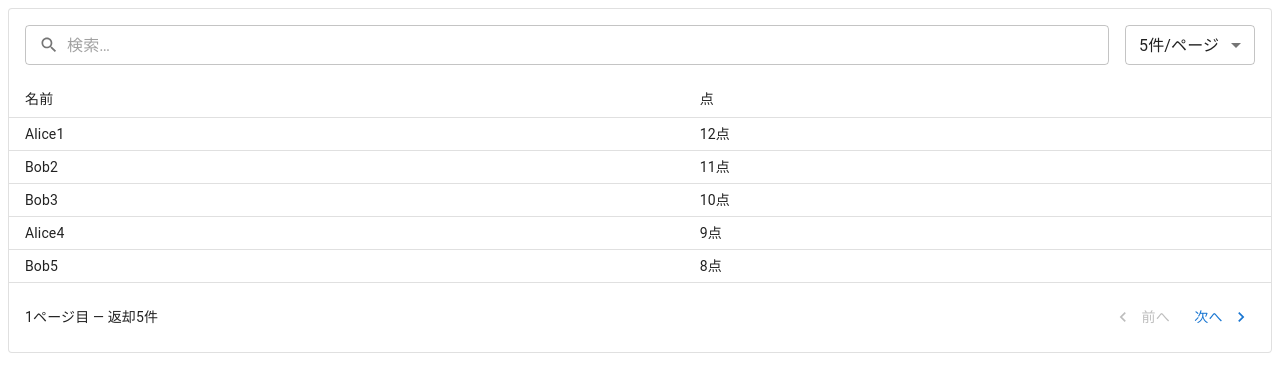
CursorTable (MUI) › 次へ・前へでページを移動する
Expected: the text "Alice1" is shown, [9,118,684,150]
What coordinates should you click on to do the following:
click the button "次へ"
I would click on:
 (1221, 317)
Its box is [1186,299,1255,336].
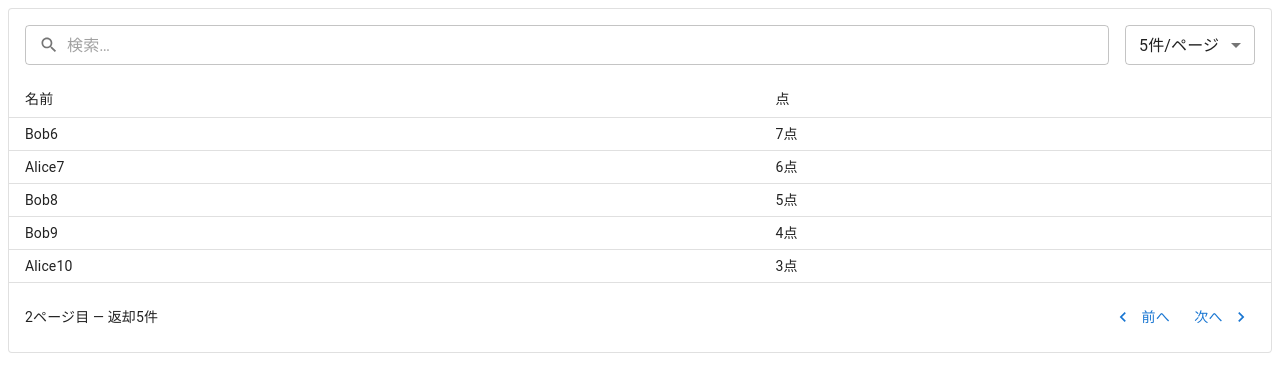
Now the text "Bob6" is shown, box [9,118,760,150]
Now the text "2ページ目 — 返却5件" is shown, box [25,307,158,327]
What coordinates should you click on to do the following:
click the button "前へ"
I would click on:
 (1144, 317)
Its box is [1109,299,1178,336].
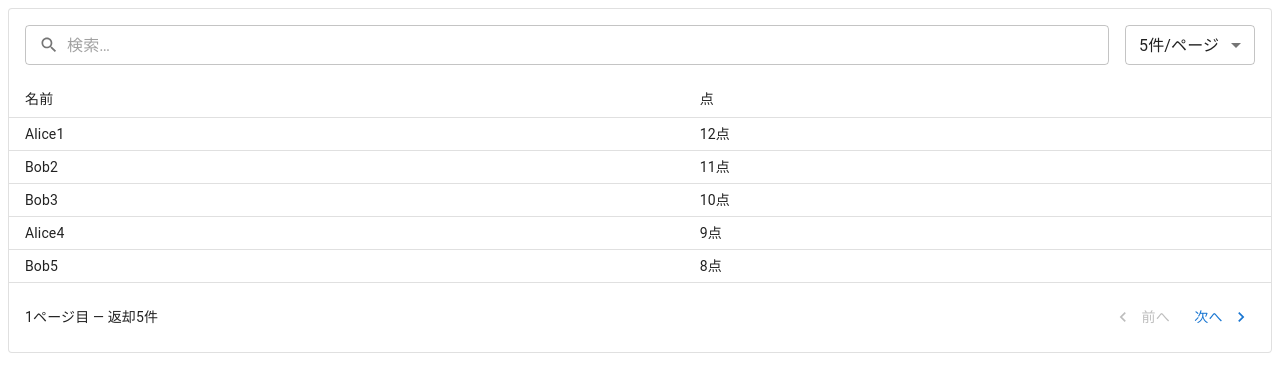
Now the text "Alice1" is shown, box [9,118,684,150]
